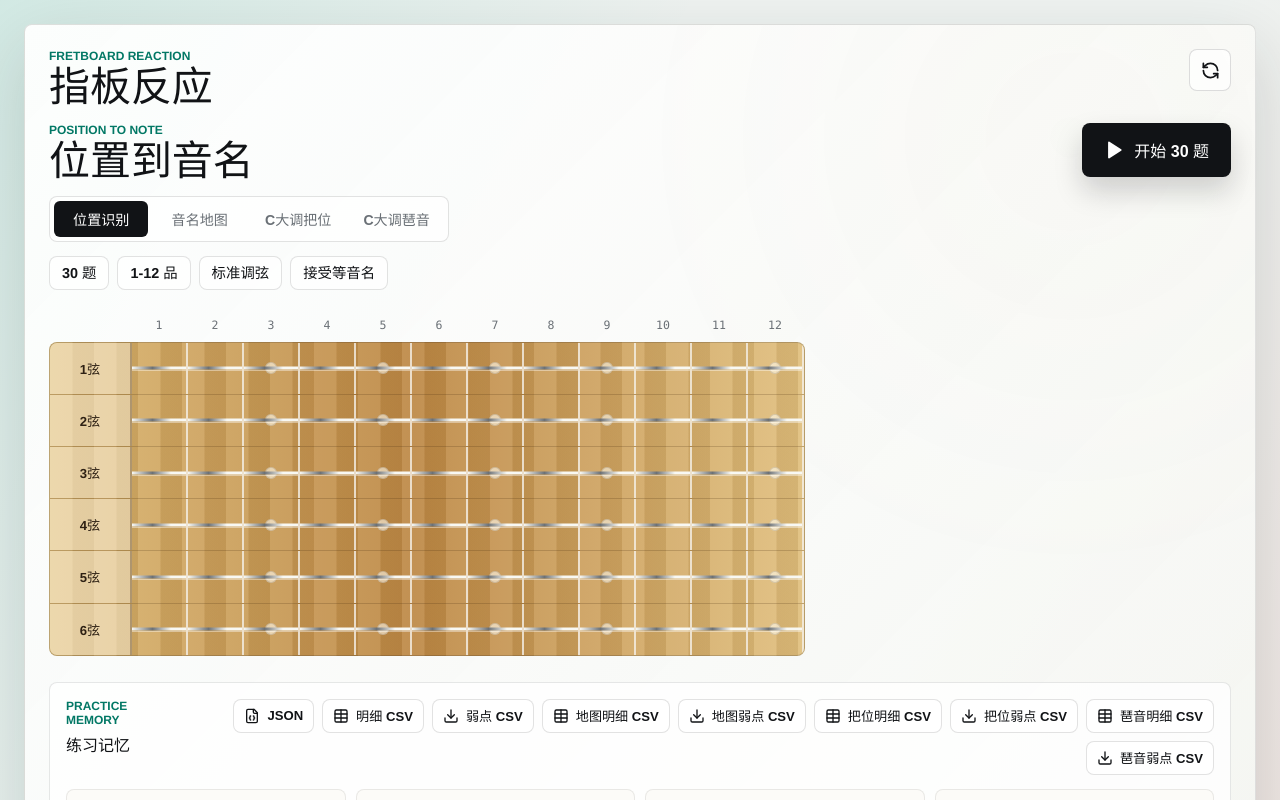
Test: App › waits on the ready screen before starting the first timed question
The width and height of the screenshot is (1280, 800).
Click the button "开始 30 题" at (1157, 150), box [1082,123,1231,177]
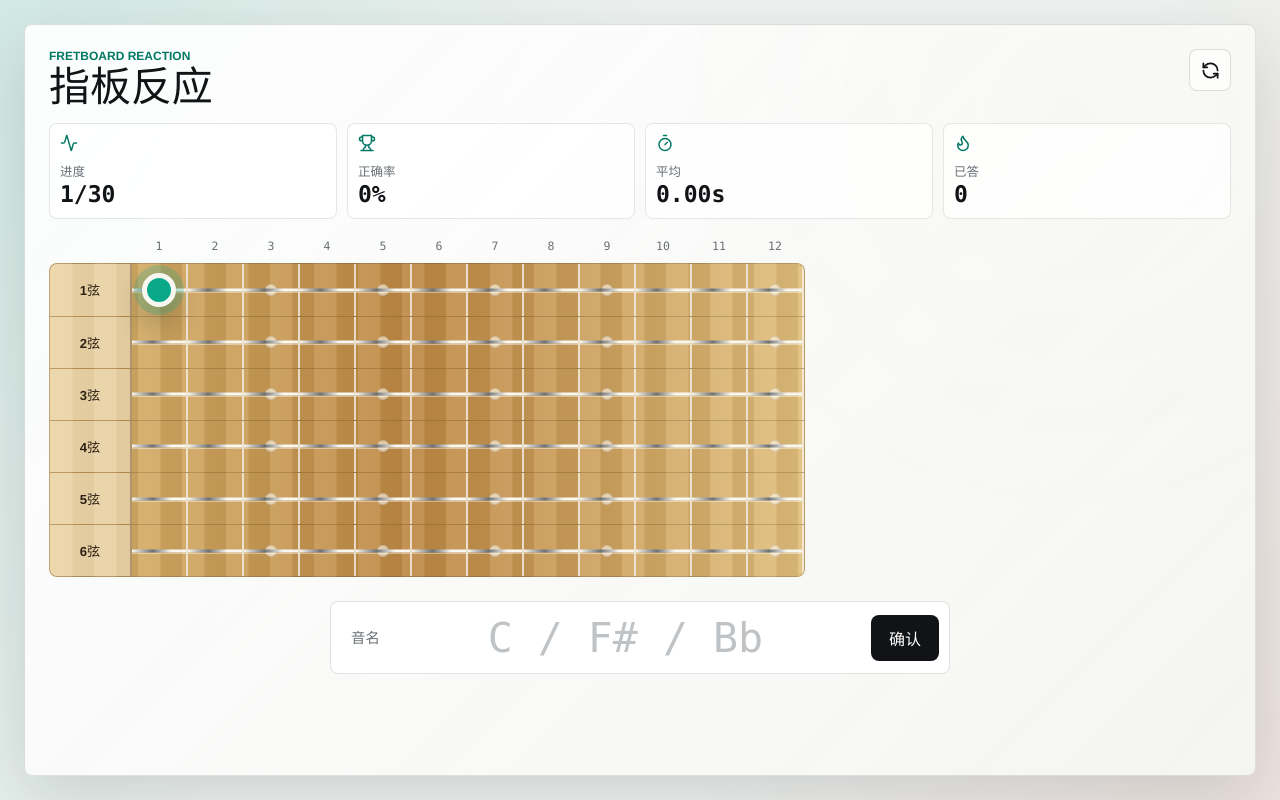
Now the field named "音名答案" is shown, box [390,612,861,663]
Now the element with class "target-dot" is shown, box [142,273,176,307]
Now the text "1/30" is shown, box [60,182,116,208]
